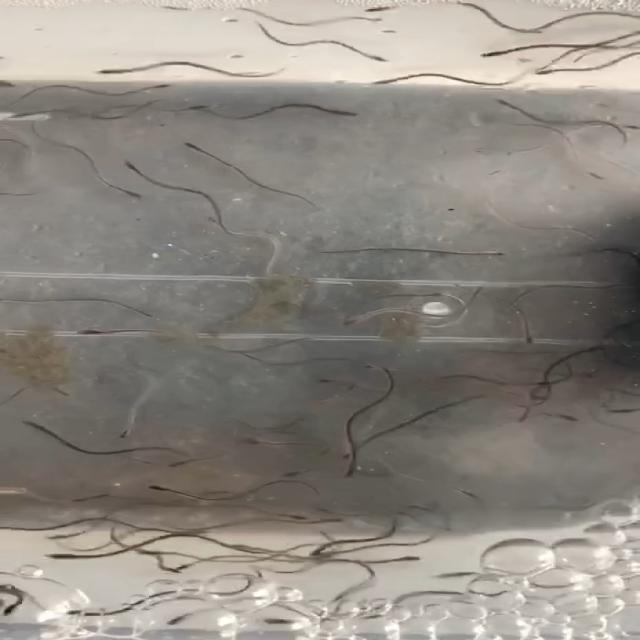active_glass_eel: (102, 181, 169, 221), (170, 209, 248, 234), (530, 67, 598, 94), (345, 40, 395, 72), (316, 98, 382, 120), (473, 239, 512, 275), (100, 152, 154, 177), (35, 543, 95, 565), (304, 364, 358, 388), (503, 372, 559, 395), (367, 72, 428, 93), (488, 328, 551, 348), (0, 599, 48, 624), (138, 480, 185, 504), (175, 129, 212, 159), (92, 66, 152, 84), (8, 416, 55, 438), (79, 322, 117, 348), (335, 308, 378, 328), (336, 457, 365, 486), (242, 430, 282, 451), (484, 95, 530, 113), (341, 5, 399, 18), (550, 410, 587, 430), (163, 560, 208, 576), (104, 426, 146, 443), (474, 47, 523, 61), (117, 305, 174, 317), (140, 80, 185, 95), (149, 454, 191, 470), (286, 509, 322, 527), (184, 98, 220, 115), (145, 562, 188, 576), (281, 465, 316, 481), (386, 554, 426, 568), (304, 539, 324, 558)
